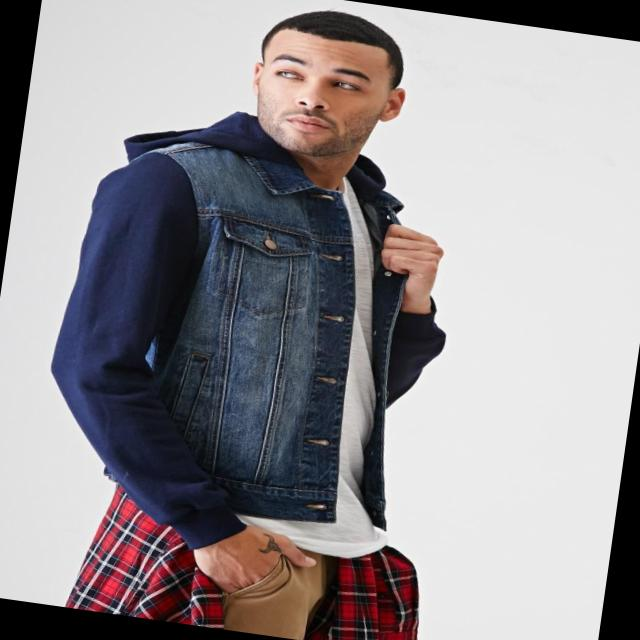Jacket: (19, 106, 459, 546)
